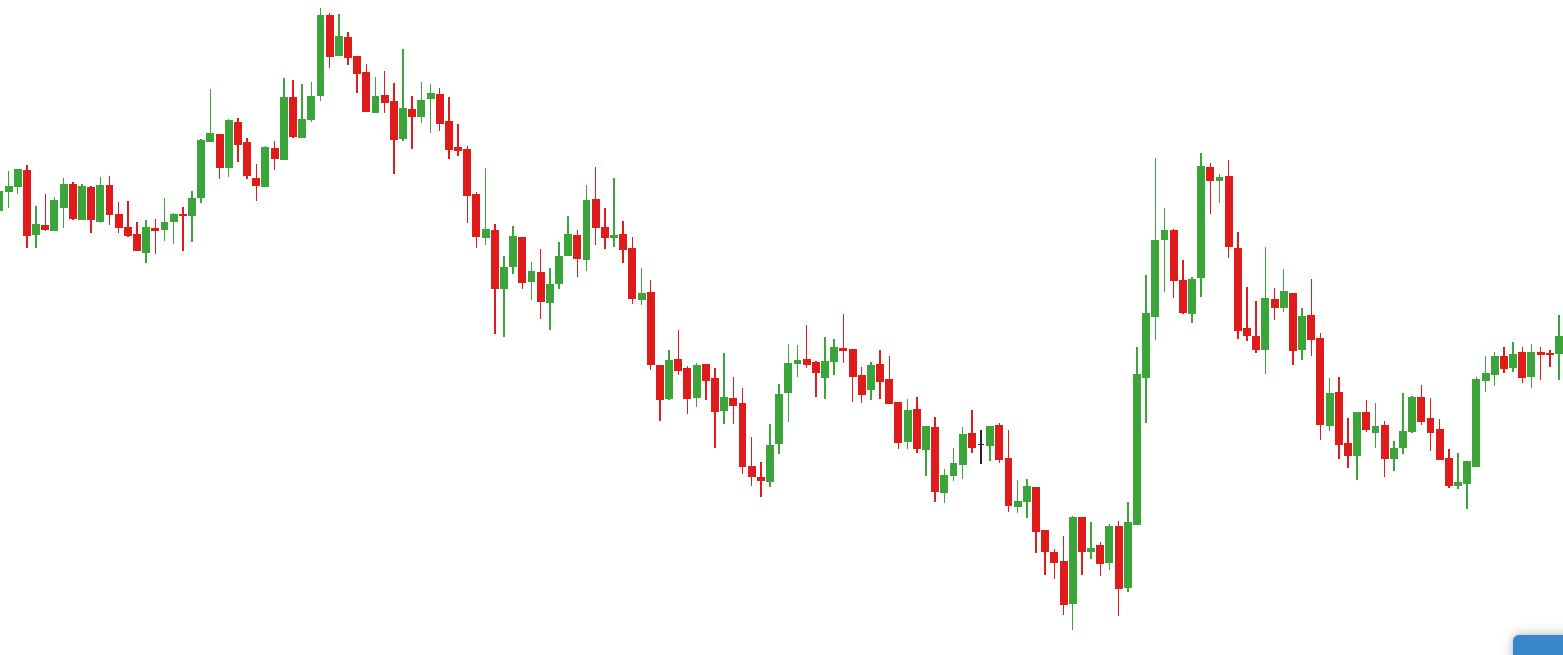buy: (1379, 409, 1472, 518)
sell: (1145, 150, 1216, 269)
